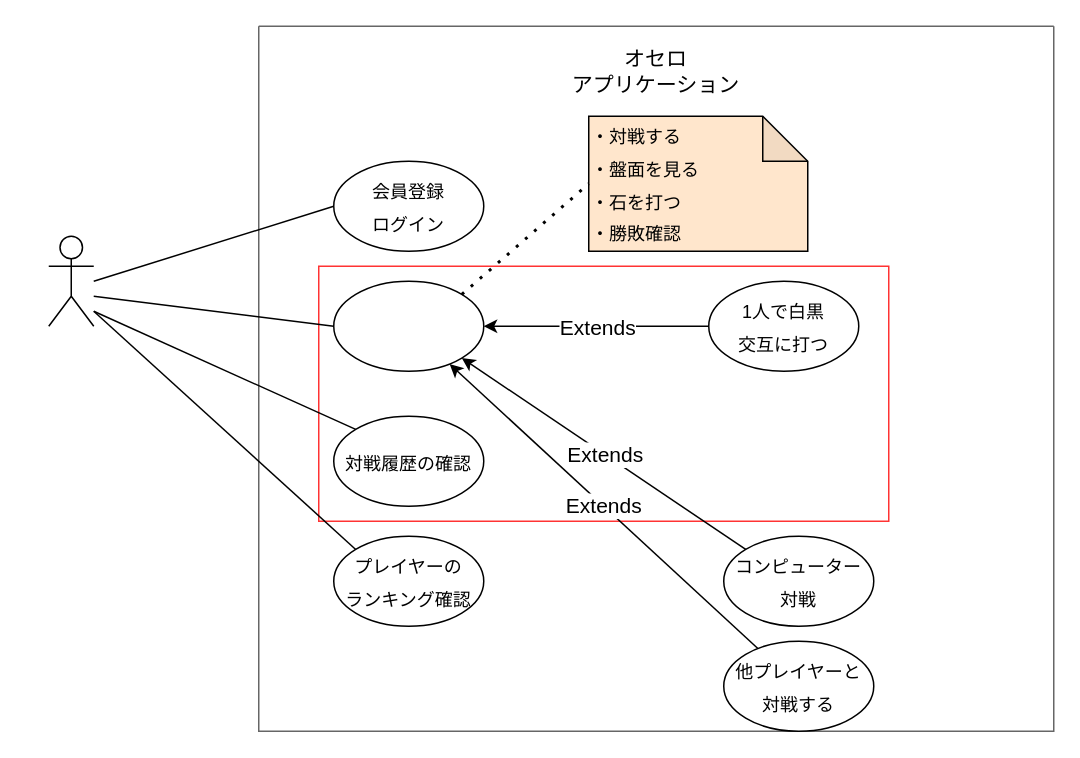
This 1080x758 diagram has some shape labels left out. Here are the shapes that lost their labels. From the top down, the centre of each, then its label:
At point (70, 280): "プレイヤー".
At point (408, 325): "対戦する".
